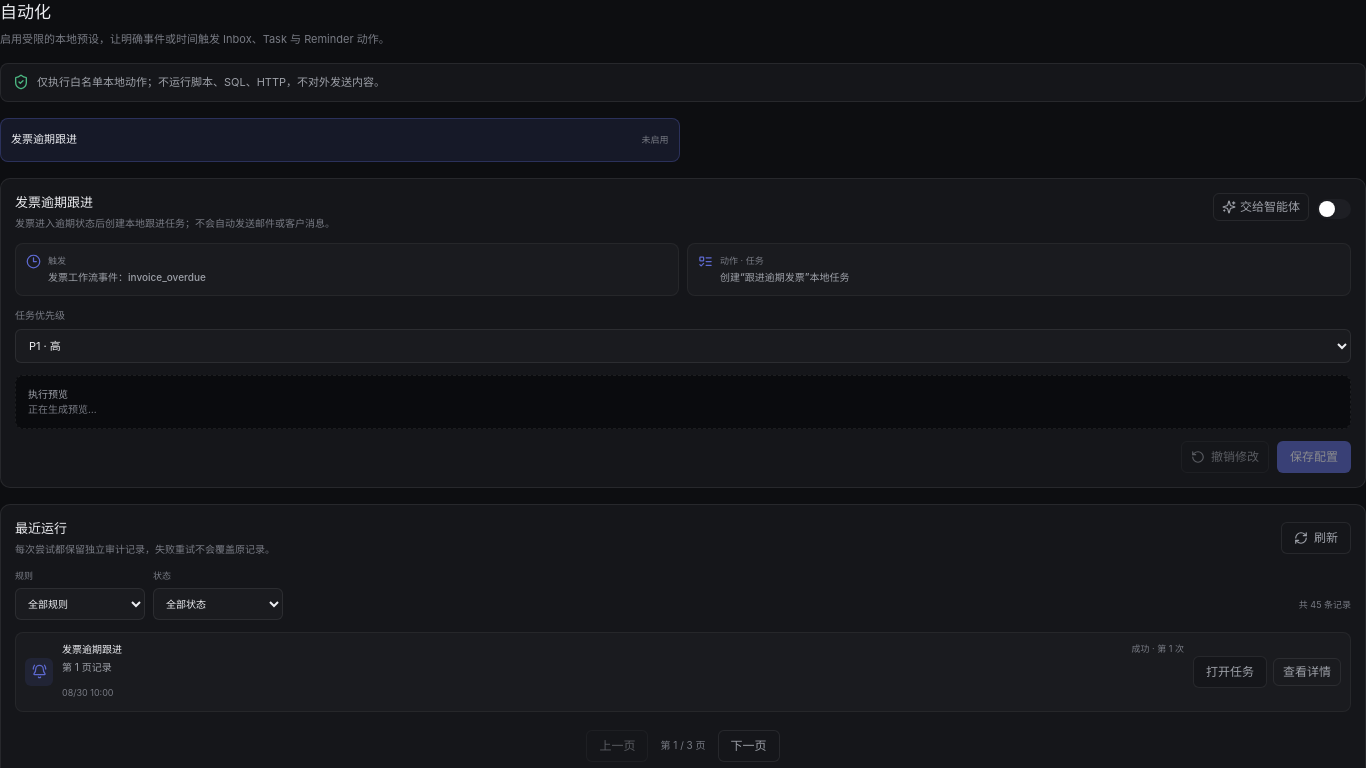
Test: AutomationSettings › uses server pagination and resets the page when filters change
The width and height of the screenshot is (1366, 768).
Expected: the text "第 1 页记录" is shown, [62, 660, 112, 672]
Expected: the text "第 1 / 3 页" is shown, [660, 738, 706, 753]
Click the button "下一页": point(749, 746) [718, 730, 780, 762]
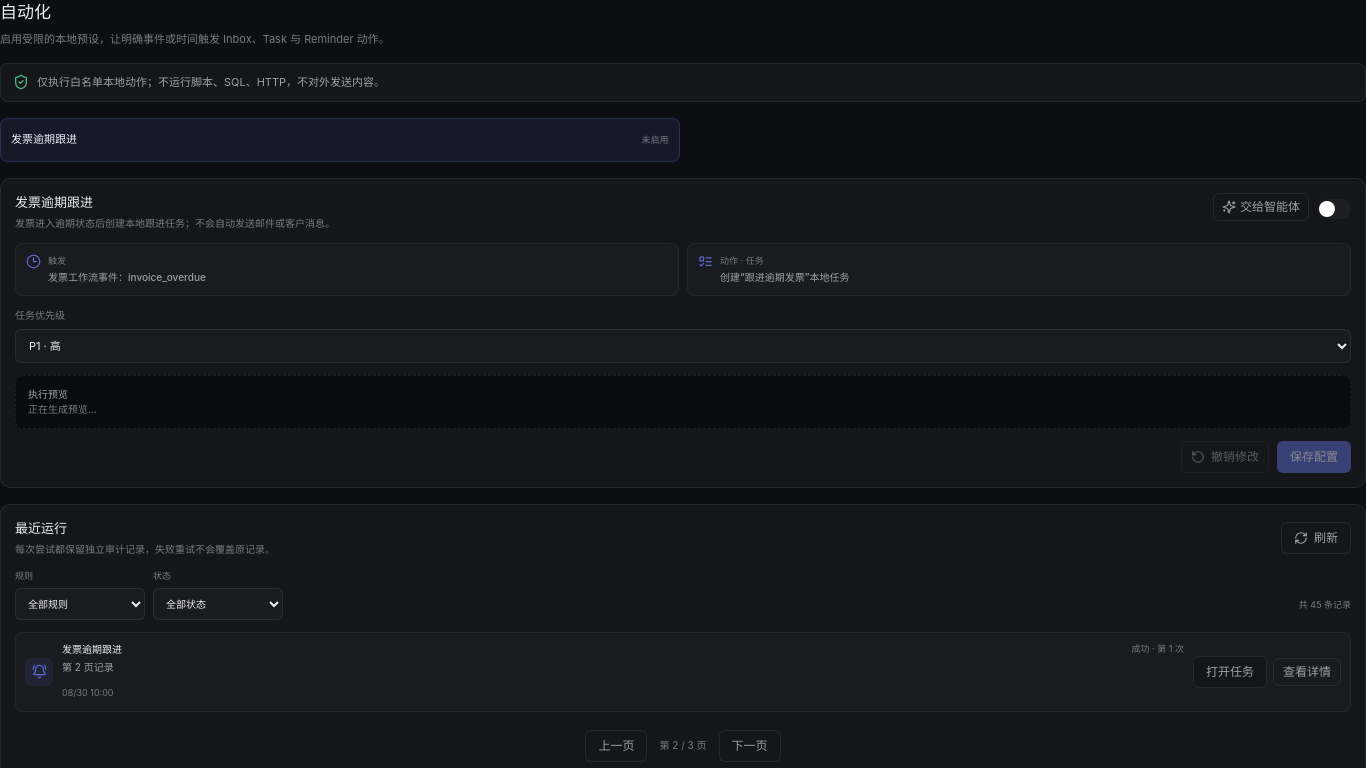
Expected: the text "第 2 页记录" is shown, [62, 660, 114, 672]
Expected: the text "第 1 页记录" is gone
Expected: the text "第 2 / 3 页" is shown, [659, 738, 707, 753]
Select "已取消" in the dropdown labelled "状态": point(218, 604) [153, 588, 283, 620]
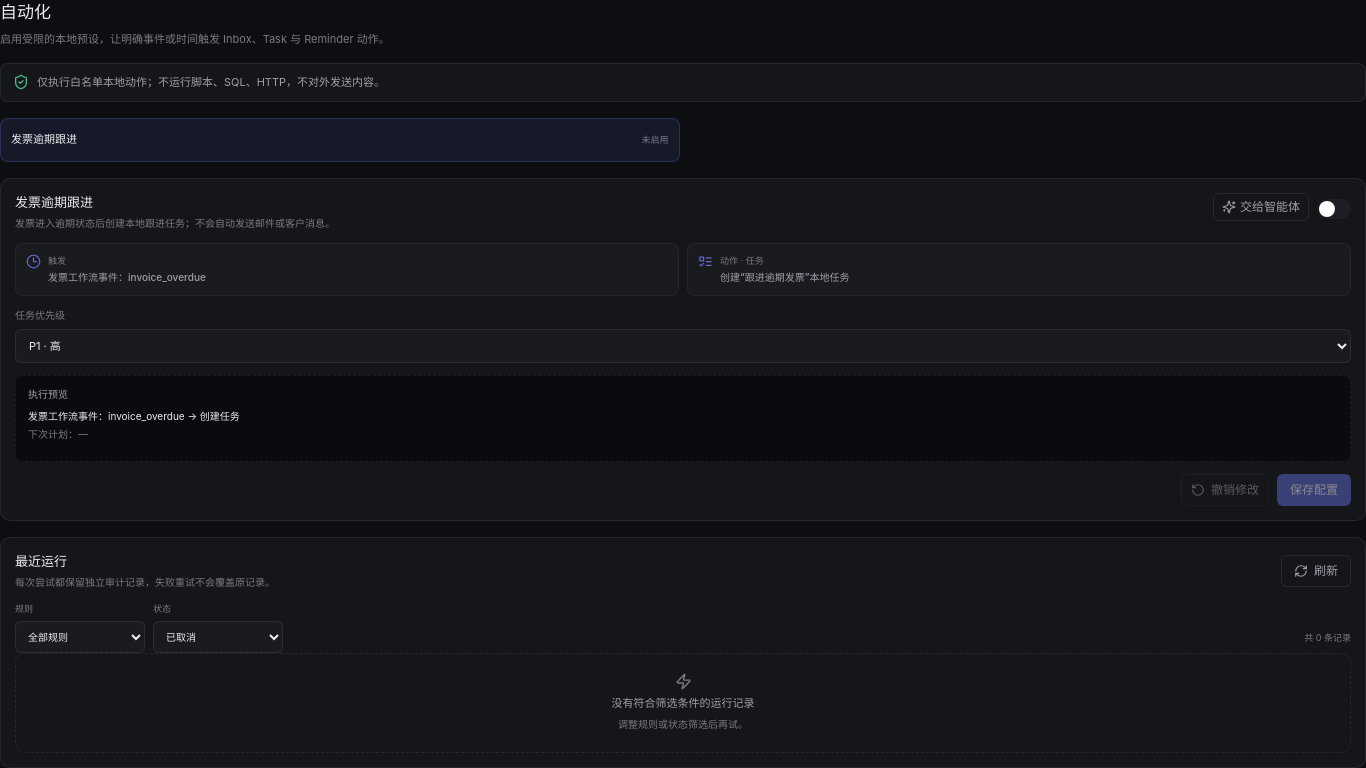
Expected: the text "没有符合筛选条件的运行记录" is shown, [612, 695, 754, 712]
